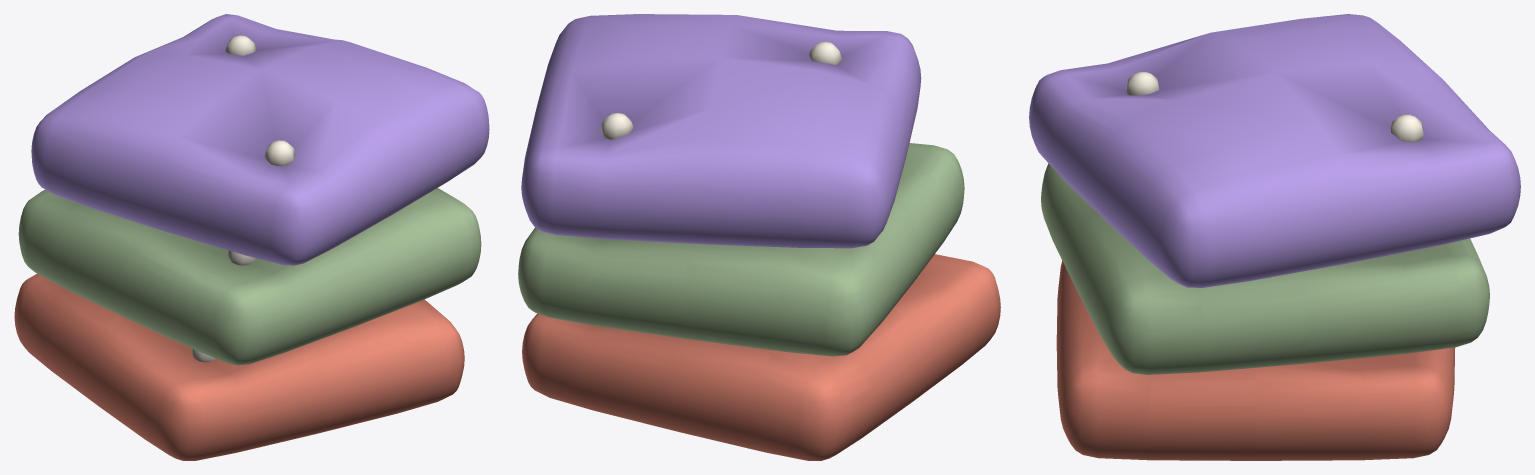
Rendered from gift-greta.glb.
The picture shows the model from 3 angles, left to right: view 1: azimuth 30°, elevation 25°; view 2: azimuth 150°, elevation 25°; view 3: azimuth 270°, elevation 25°; orthographic projection. The views are drawn at different scales.
Visible parts, largest first — view 1: gift-greta; view 2: gift-greta; view 3: gift-greta.
Part boxes in pixels (x1=…): gift-greta: x1=14, y1=14, x2=489, y2=460; gift-greta: x1=518, y1=14, x2=1000, y2=460; gift-greta: x1=1029, y1=14, x2=1520, y2=460.
Bounding box in the file's own units: 0.517 × 0.3922 × 0.517.
